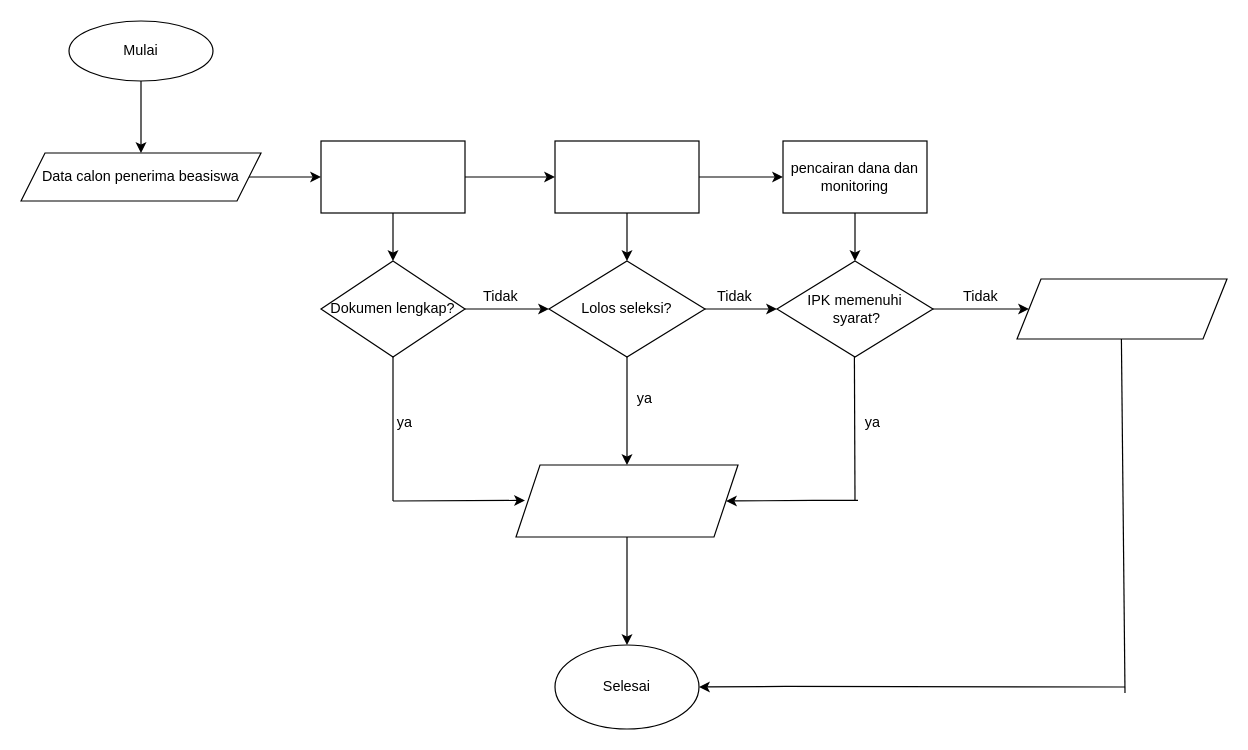
This 1248x750 diagram has some shape labels left out. The shapes that lost their labels are listed below. From the top down, each one's centre as x and y in pixels, then its label:
At (392,176): "pendaftaran dan pengumpulan dokumen".
At (626,176): "seleksi dan penilaian".
At (1121,308): "Proses dibatalkan".
At (626,500): "ditetapkan sebagai penerima beasiswa".
